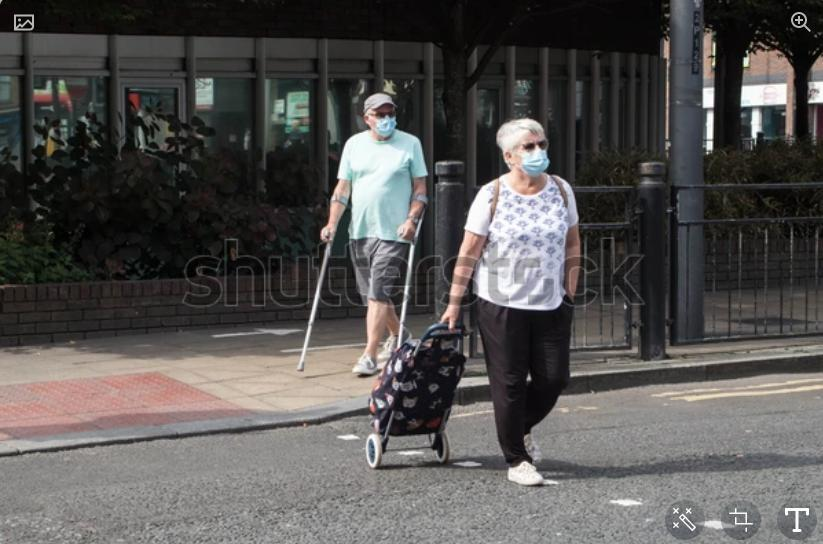crutches: (293, 75, 433, 386)
